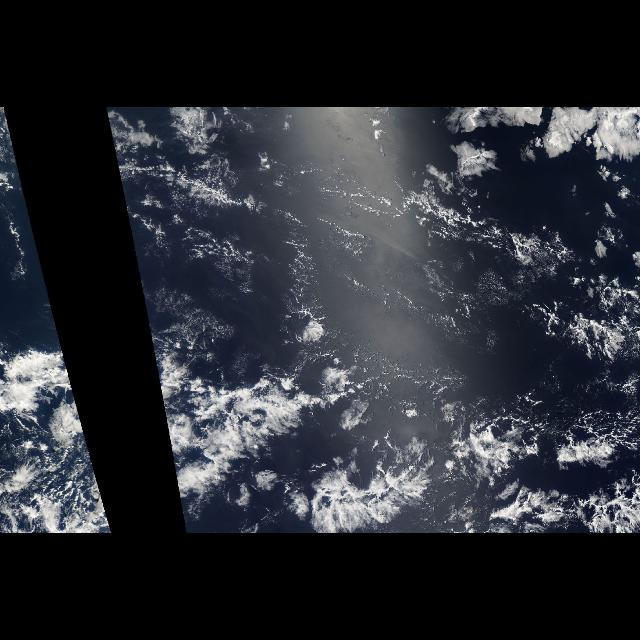Fish: (290, 400, 640, 526)
Flower: (306, 113, 636, 209)
Sugar: (146, 200, 632, 352)
